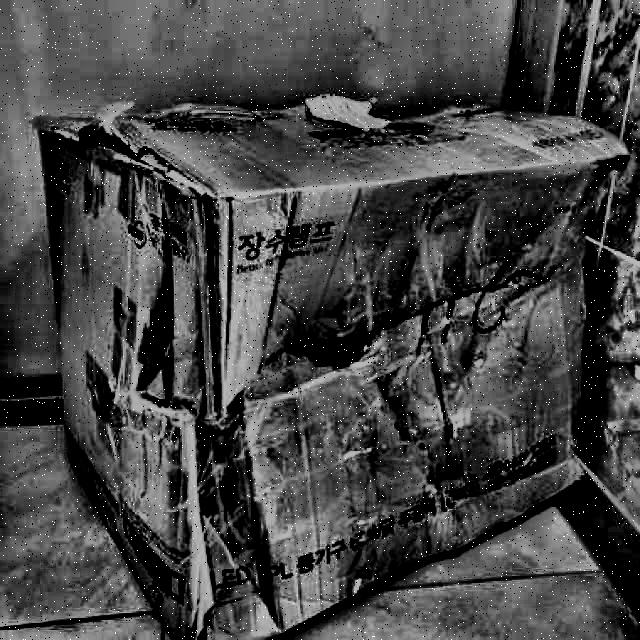box: (30, 94, 639, 639)
hole: (286, 323, 369, 376)
